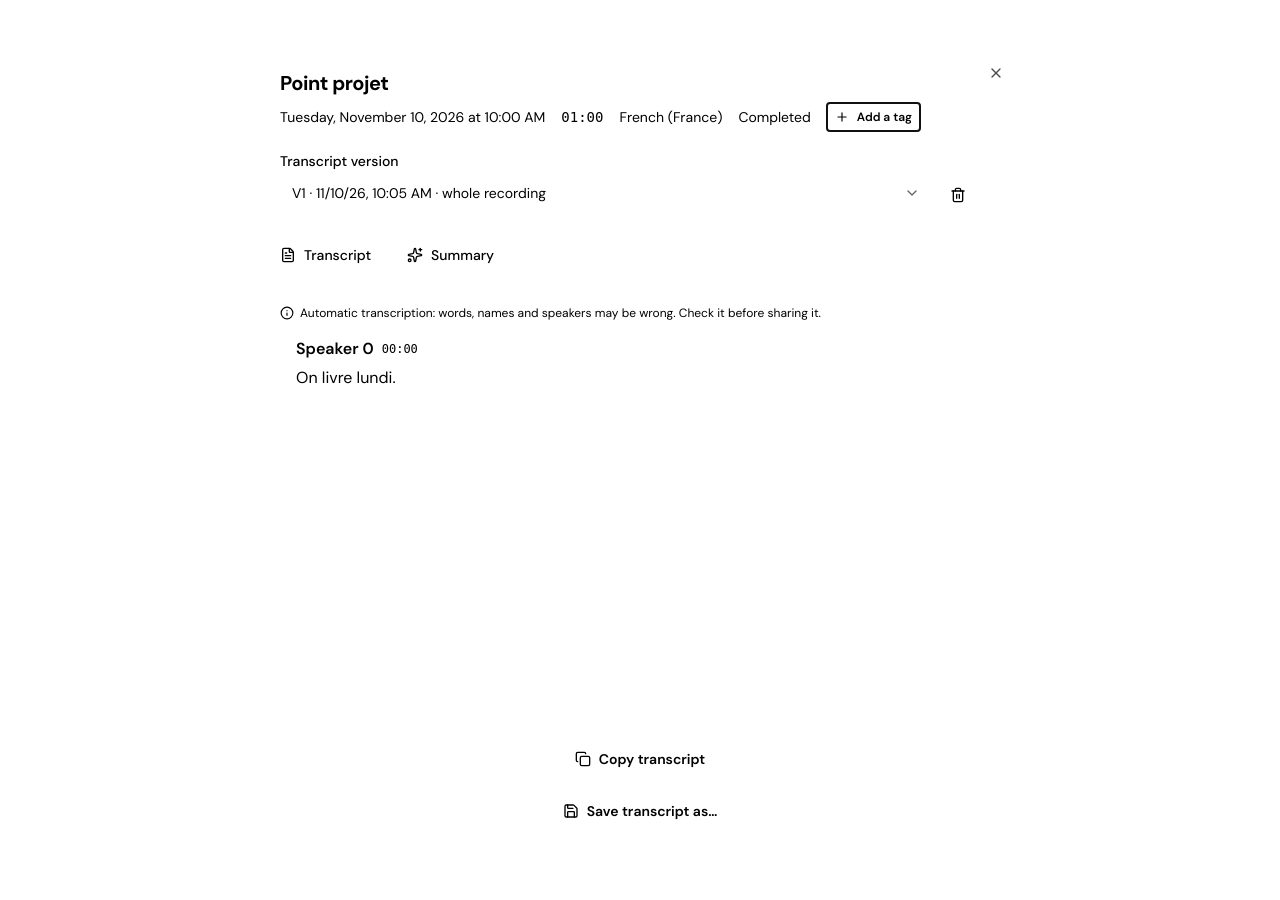
Scenario: MeetingDetailModal — étiquettes › quitter le champ ajoute ce qui a été saisi
Click the button "Add a tag": click(873, 117) [827,103,920,131]
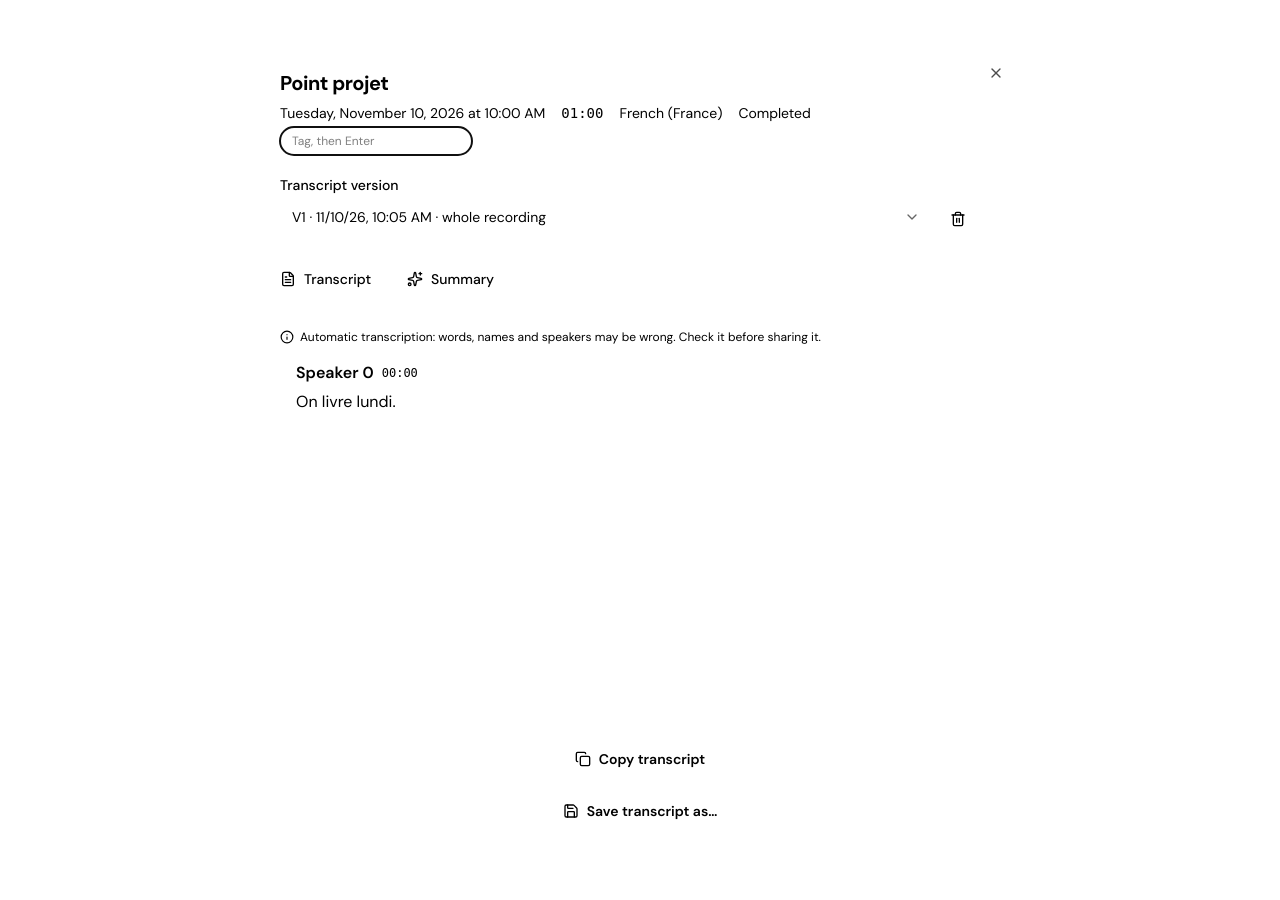
In the field named "New tag": (376, 141) [280,127,472,155], type "entretien"
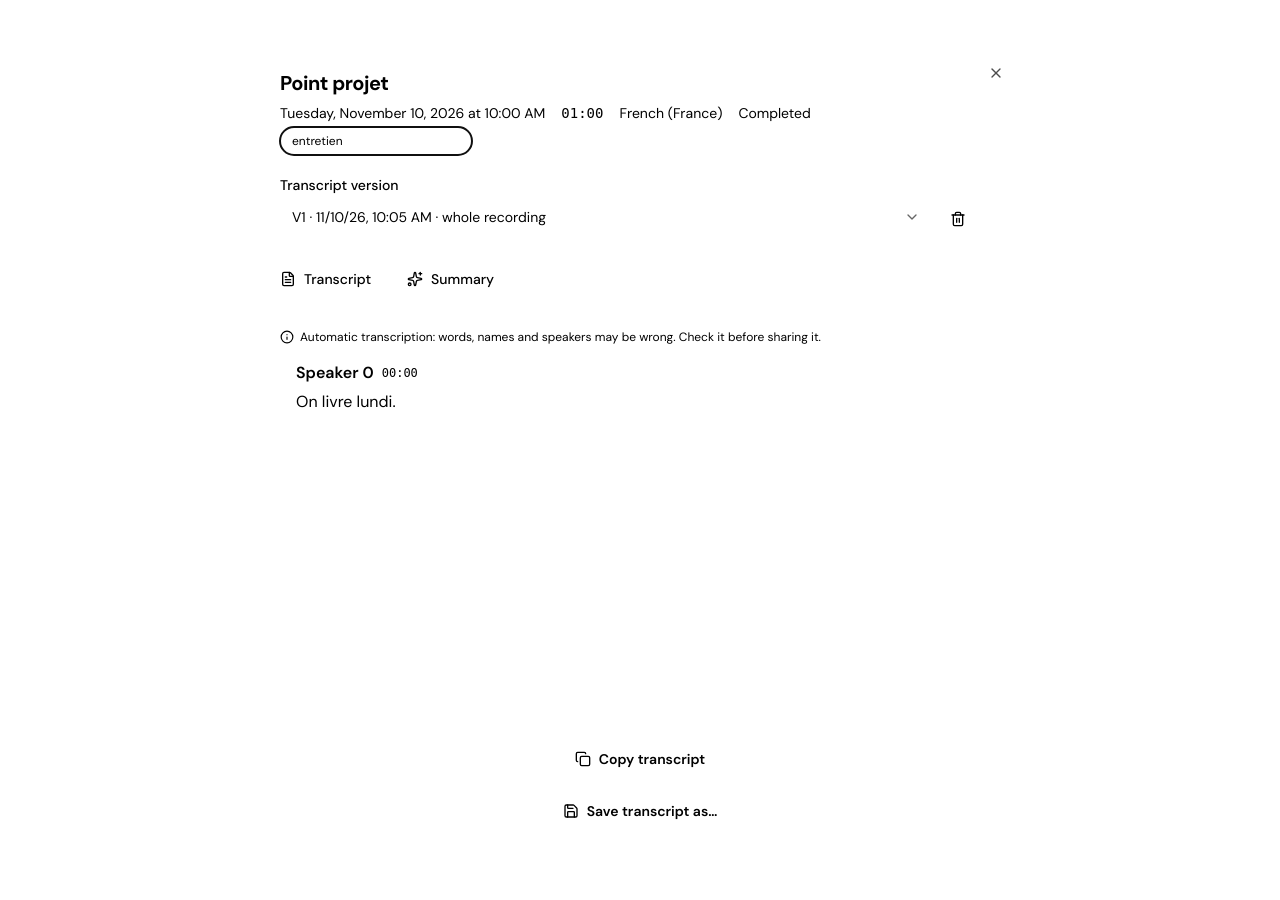
Click the heading "Point projet": click(334, 83) [280,70,388,96]
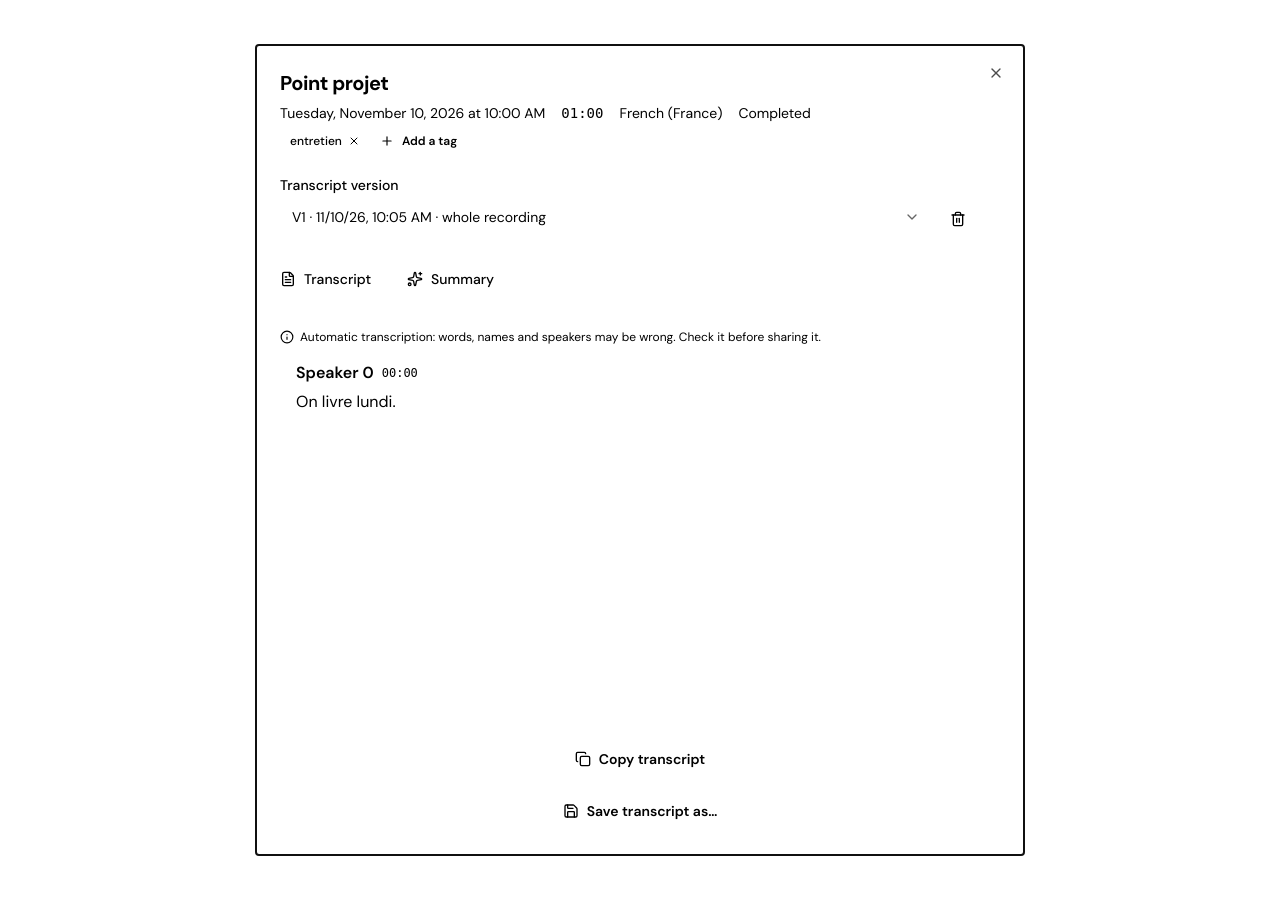
Result: the element showing "entretien" is shown at [290,133,362,149]
